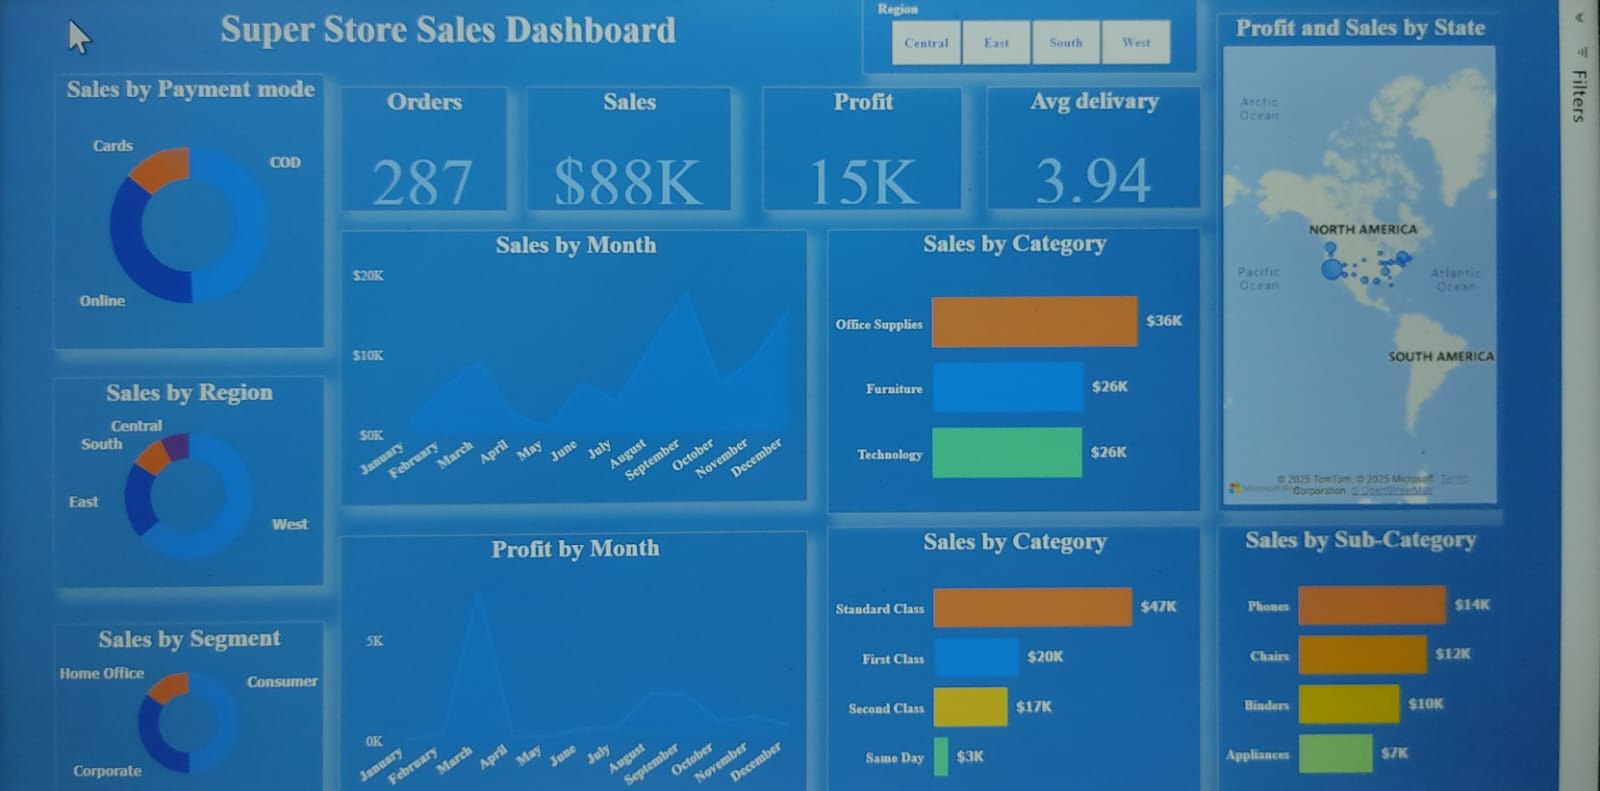

This screenshot's page, from the dashboard's own definition file:
{"tool":"powerbi","page":{"name":"Page 1","canvas":[1280,720],"ordinal":0},"visuals":[{"type":"clusteredBarChart","title":"Sales by Category","fields":{"Category":["Super_store_sales.Category"],"Y":["Sum(Super_store_sales.Sales)"]},"box":[676.8,208.9,333.6,254.2],"z":0},{"type":"clusteredBarChart","title":"Sales by Sub-Category","fields":{"Y":["Sum(Super_store_sales.Sales)"],"Category":["Super_store_sales.Sub-Category"]},"box":[1025,474.4,255.8,246.1],"z":1},{"type":"clusteredBarChart","title":"Sales by Category","fields":{"Y":["Sum(Super_store_sales.Sales)"],"Category":["Super_store_sales.Ship Mode"]},"box":[676.8,474.4,333.6,246.1],"z":2},{"type":"areaChart","title":"Sales by Month ","fields":{"Y":["Sum(Super_store_sales.Sales)"],"Category":["Super_store_sales.Order Date.Variation.Date Hierarchy.Month","Super_store_sales.Order Date.Variation.Date Hierarchy.Day"],"Series":["Super_store_sales.Order Date.Variation.Date Hierarchy.Year"]},"box":[247.7,208.9,411.3,242.9],"z":3},{"type":"areaChart","title":"Profit by Month ","fields":{"Category":["Super_store_sales.Order Date.Variation.Date Hierarchy.Month"],"Y":["Sum(Super_store_sales.Profit)"]},"box":[247.7,477.7,411.3,242.9],"z":4},{"type":"map","title":" Profit and Sales by State","fields":{"Category":["Super_store_sales.State"],"Size":["Sum(Super_store_sales.Sales)"]},"box":[1025,17.8,255.8,445.3],"z":5},{"type":"donutChart","title":"Sales by Segment","fields":{"Category":["Super_store_sales.Segment"],"Y":["Sum(Super_store_sales.Sales)"]},"box":[0,552.2,234.8,150.6],"z":6},{"type":"donutChart","title":"Sales by Payment mode","fields":{"Y":["Sum(Super_store_sales.Sales)"],"Category":["Super_store_sales.Payment Mode"]},"box":[0,71.2,234.8,241.3],"z":7},{"type":"donutChart","title":"Sales by Payment mode","fields":{"Y":["Sum(Super_store_sales.Sales)"],"Category":["Super_store_sales.Region"]},"box":[0,336.8,234.8,184.6],"z":8},{"type":"cardVisual","title":"Orders","fields":{"Data":["CountNonNull(Super_store_sales.Order ID)"]},"box":[247.7,82.6,145.7,110.1],"z":9},{"type":"cardVisual","title":"Sales","fields":{"Data":["Sum(Super_store_sales.Sales)"]},"box":[409.7,82.6,181.4,110.1],"z":10},{"type":"cardVisual","title":"Profit","fields":{"Data":["Sum(Super_store_sales.Profit)"]},"box":[618.5,82.6,178.1,110.1],"z":11},{"type":"cardVisual","title":"Avg delivary","fields":{"Data":["Avg(Super_store_sales.Avgdelivary)"]},"box":[819.3,82.6,191.1,110.1],"z":12},{"type":"slicer","fields":{"Values":["Super_store_sales.Region"]},"box":[707.6,0,299.6,71.2],"z":13},{"type":"textbox","box":[9.7,8.1,667.1,53.4],"z":14}]}

Visuals, with their boxes on the page's 1280x720 design canvas (x1, y1, x2, y2). These are canvas units, not pixel positions in the 1600x791 screenshot, which may show the page scaled, cropped or inside an application window:
"Sales by Category" clusteredBarChart: box=[677, 209, 1010, 463]
"Sales by Sub-Category" clusteredBarChart: box=[1025, 474, 1281, 720]
"Sales by Category" clusteredBarChart: box=[677, 474, 1010, 720]
"Sales by Month " areaChart: box=[248, 209, 659, 452]
"Profit by Month " areaChart: box=[248, 478, 659, 721]
" Profit and Sales by State" map: box=[1025, 18, 1281, 463]
"Sales by Segment" donutChart: box=[0, 552, 235, 703]
"Sales by Payment mode" donutChart: box=[0, 71, 235, 312]
"Sales by Payment mode" donutChart: box=[0, 337, 235, 521]
"Orders" cardVisual: box=[248, 83, 393, 193]
"Sales" cardVisual: box=[410, 83, 591, 193]
"Profit" cardVisual: box=[618, 83, 797, 193]
"Avg delivary" cardVisual: box=[819, 83, 1010, 193]
slicer - Super_store_sales.Region: box=[708, 0, 1007, 71]
textbox: box=[10, 8, 677, 62]
